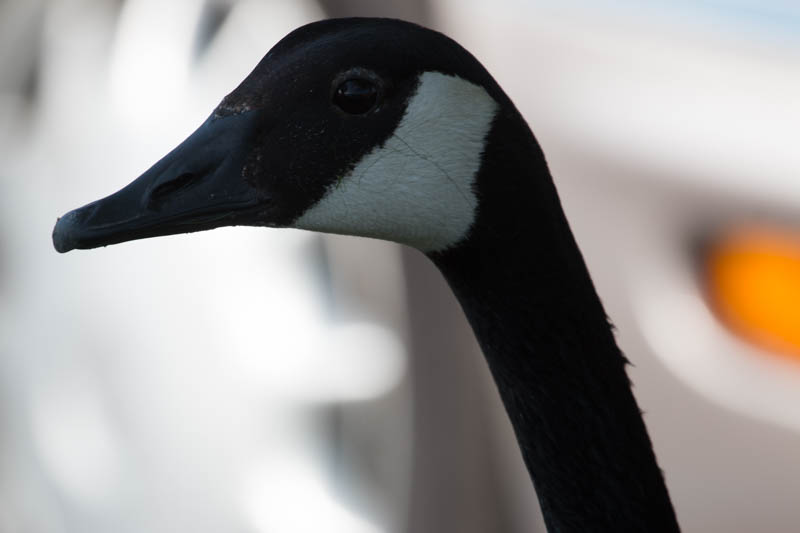goose-head: (51, 17, 579, 254)
